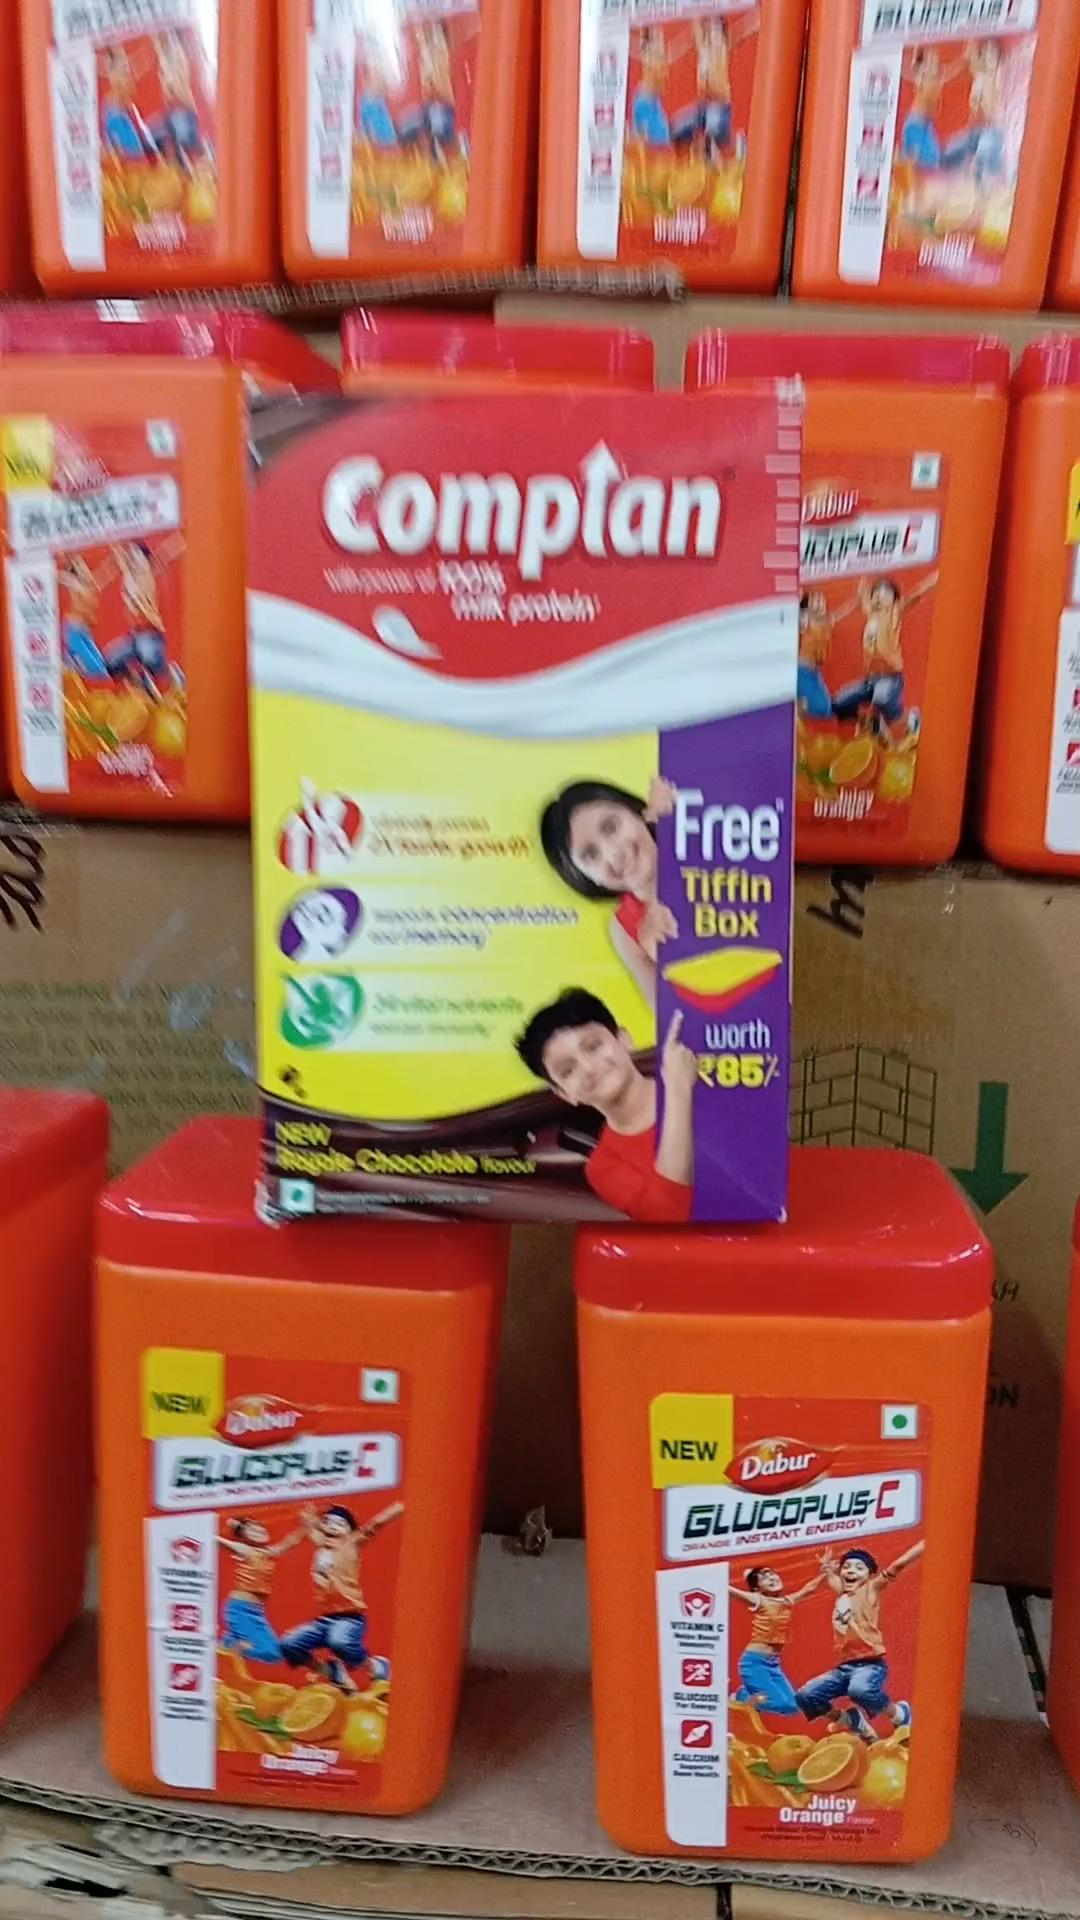COMPLAN_CHOCOLATE_500_GMS_PACK: (244, 385, 791, 1226)
